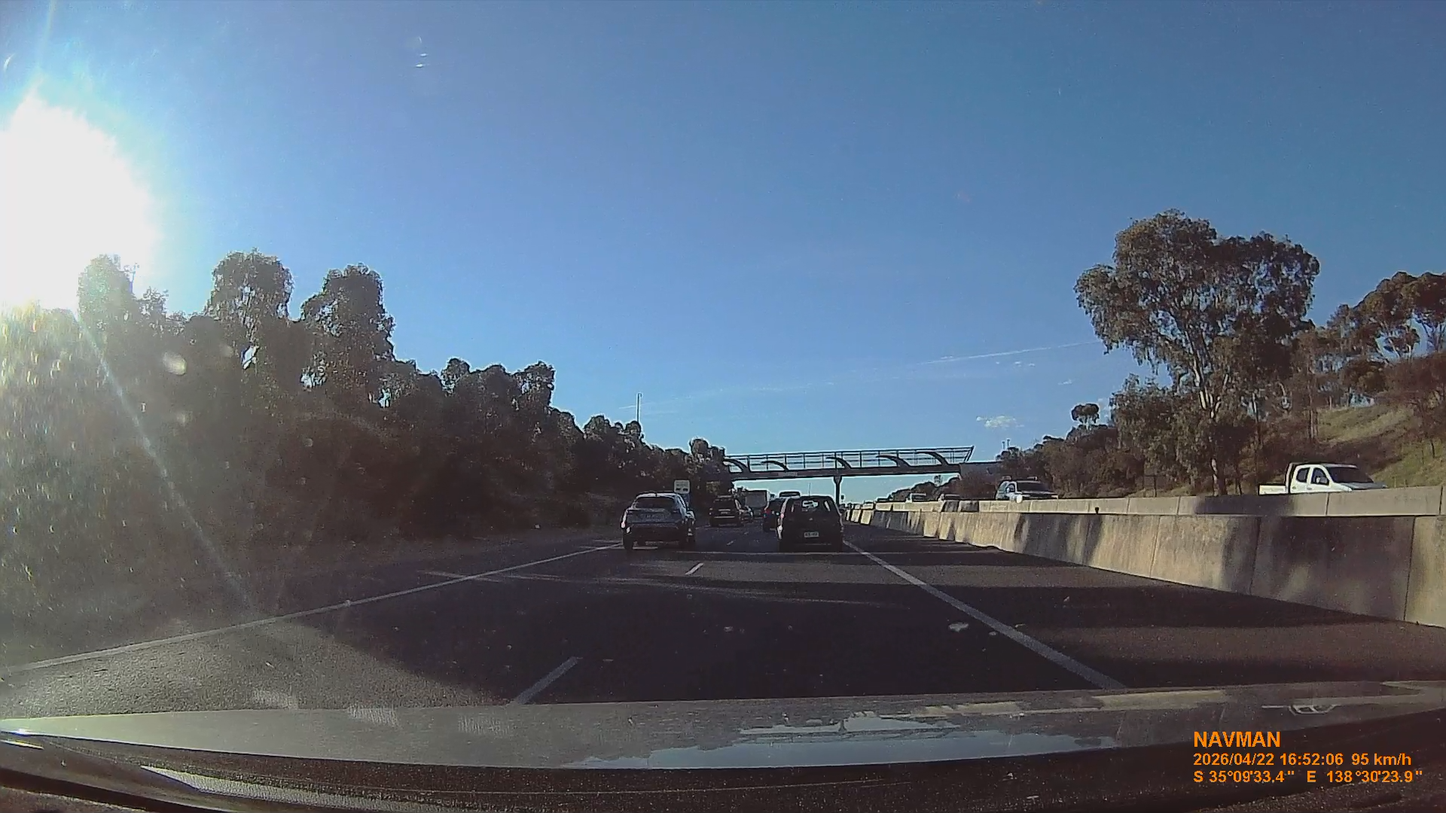road barriers: (0, 540, 612, 690), (850, 488, 1445, 626)
